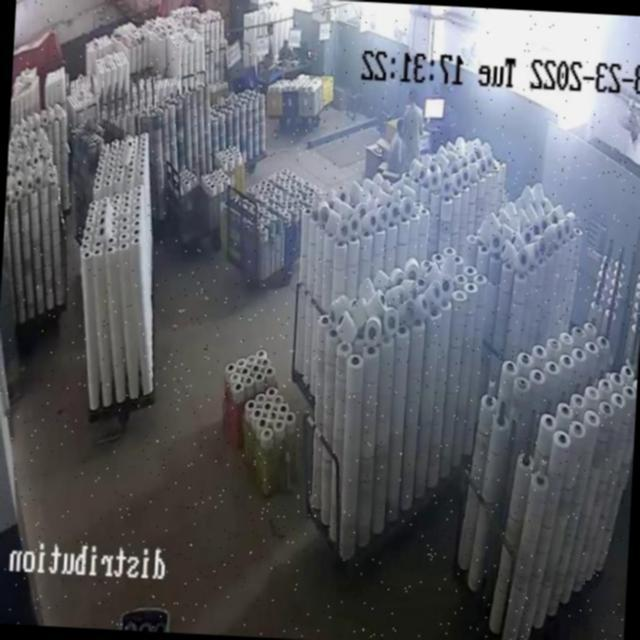person: (401, 95, 423, 168), (388, 121, 408, 178), (267, 24, 278, 65), (278, 41, 292, 62)
